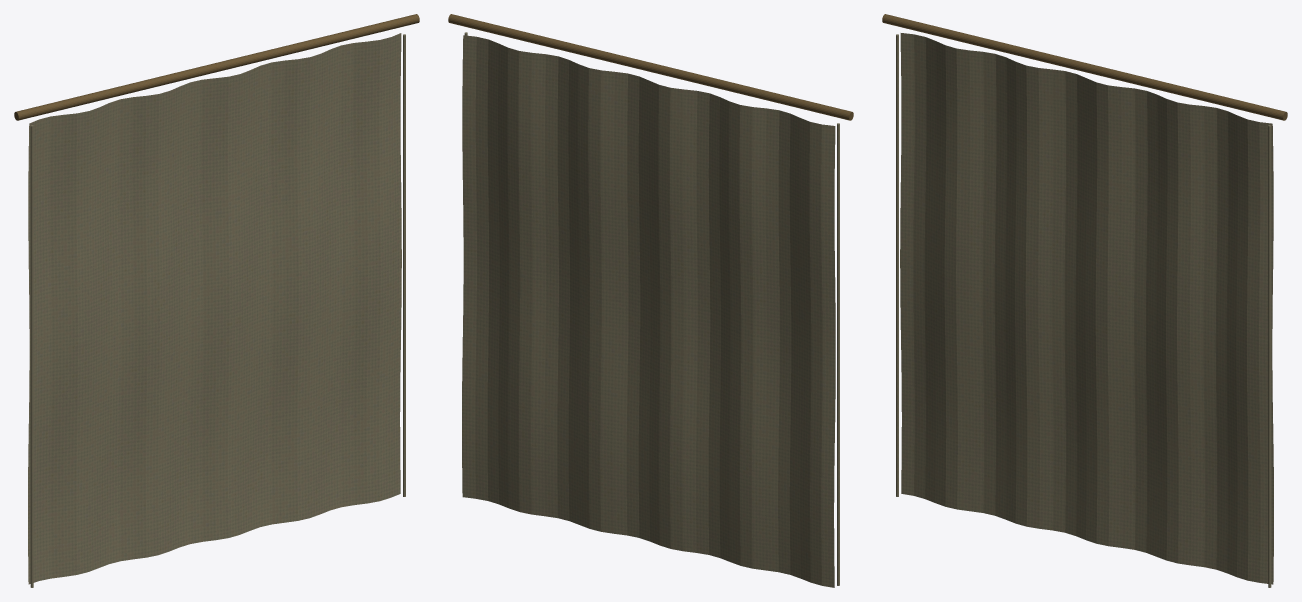
File: furn_com_tapestry_04.dae
3 views of the same model, side by side, from view 1: azimuth 30°, elevation 25°; view 2: azimuth 150°, elevation 25°; view 3: azimuth 330°, elevation 25° (orthographic).
Visible parts, largest first — view 1: linen, bronze; view 2: linen, bronze; view 3: linen, bronze.
Part boxes in pixels (bbox=[...]): linen: bbox=[28, 33, 405, 587]; bronze: bbox=[14, 14, 419, 120]; linen: bbox=[462, 32, 839, 587]; bronze: bbox=[448, 14, 853, 120]; linen: bbox=[896, 33, 1273, 587]; bronze: bbox=[882, 14, 1287, 120].
Size of the model in its own units: 140 by 4.1 by 159.
